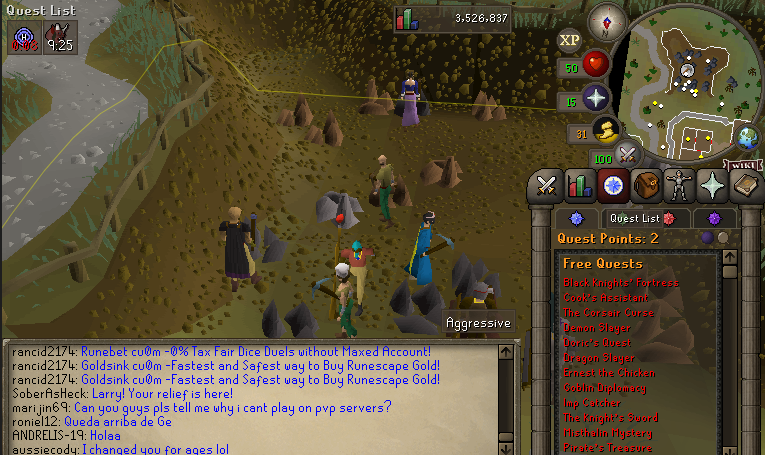depleted: (385, 269, 454, 341), (448, 246, 517, 310), (258, 292, 323, 342), (236, 220, 295, 268)
